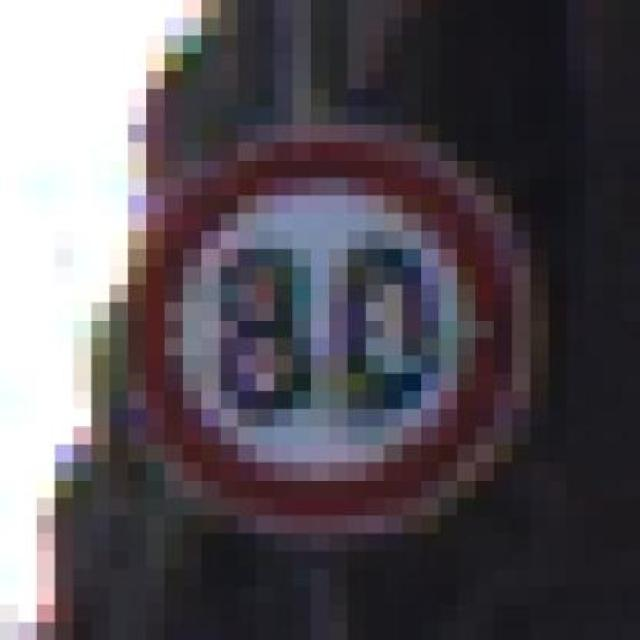forb_speed_over_80: (127, 140, 516, 526)
